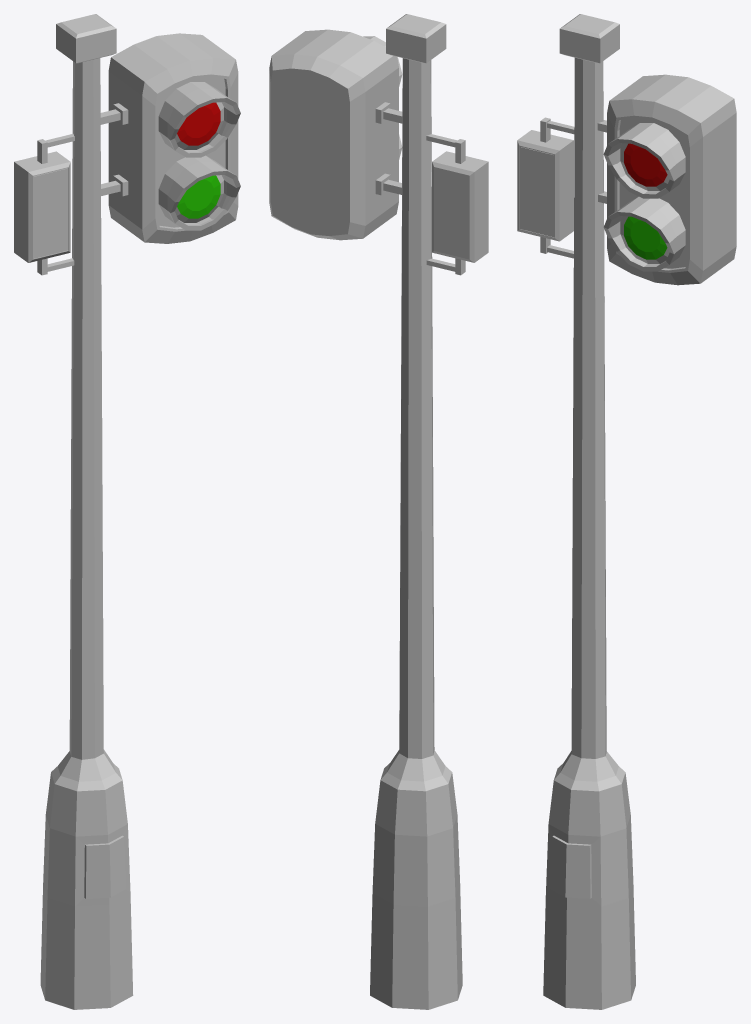
File: traffic_light_3.obj
3 renders of one model, left to right at view 1: azimuth 30°, elevation 25°; view 2: azimuth 150°, elevation 25°; view 3: azimuth 330°, elevation 25°, orthographic.
Parts seen in each view (by area): view 1: pole_3_roads_material, traffic_light_3_roads_material, thingy_3_roads_material, green_3_green_light_material, red_3_red_light_material; view 2: pole_3_roads_material, traffic_light_3_roads_material, thingy_3_roads_material; view 3: pole_3_roads_material, traffic_light_3_roads_material, thingy_3_roads_material, green_3_green_light_material, red_3_red_light_material.
Boxes of the visible parts, bbox=[...] form: pole_3_roads_material: bbox=[40, 14, 133, 1009]; traffic_light_3_roads_material: bbox=[100, 33, 240, 243]; thingy_3_roads_material: bbox=[14, 134, 74, 275]; green_3_green_light_material: bbox=[177, 175, 220, 218]; red_3_red_light_material: bbox=[177, 102, 220, 145]; pole_3_roads_material: bbox=[370, 14, 462, 1009]; traffic_light_3_roads_material: bbox=[269, 29, 402, 240]; thingy_3_roads_material: bbox=[426, 134, 488, 275]; pole_3_roads_material: bbox=[543, 14, 635, 1009]; traffic_light_3_roads_material: bbox=[597, 74, 736, 285]; thingy_3_roads_material: bbox=[517, 117, 574, 258]; green_3_green_light_material: bbox=[624, 216, 667, 259]; red_3_red_light_material: bbox=[624, 143, 667, 186].
Bounding box in the file's own units: 1.05 × 4.9 × 0.6121.
